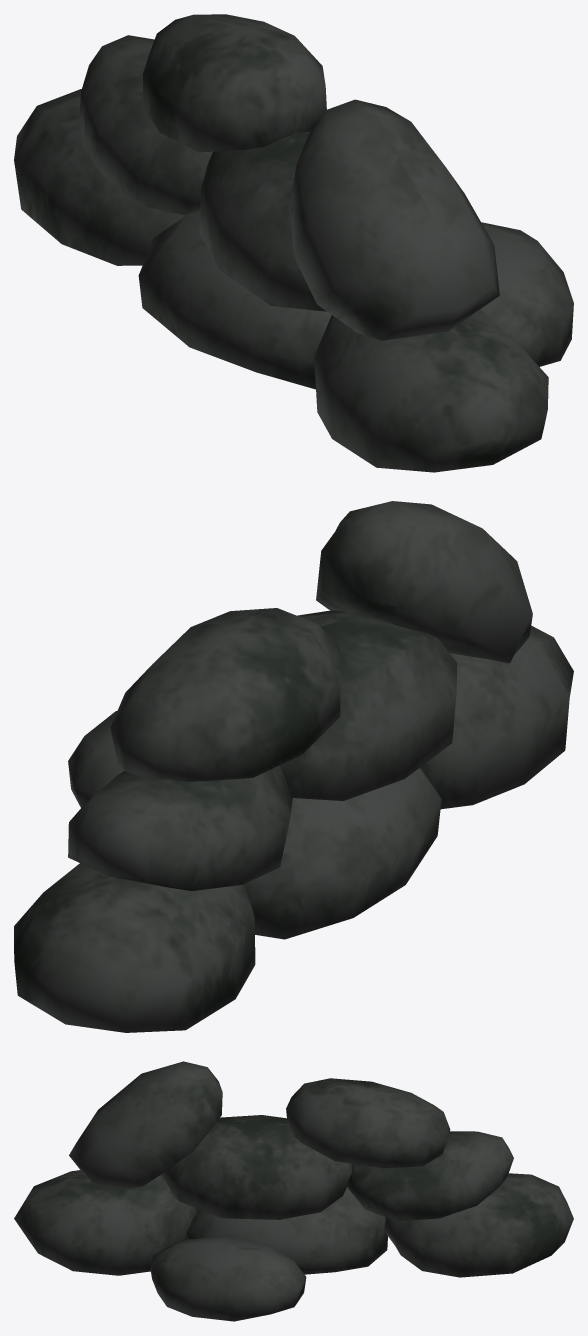
The model's file is rockWall02.glb.
3 renders of one model, top to bottom at view 1: azimuth 30°, elevation 25°; view 2: azimuth 150°, elevation 25°; view 3: azimuth 270°, elevation 25°, orthographic. The views are drawn at different scales.
Parts seen in each view (by area): view 1: Cube; view 2: Cube; view 3: Cube.
Boxes of the visible parts, x1,y1,x2,y2 form: Cube: (14,14,573,472); Cube: (14,501,573,1032); Cube: (14,1061,573,1321).
Size of the model in its own units: 4.33 by 3.55 by 9.67.
1 material, 1 textured.
